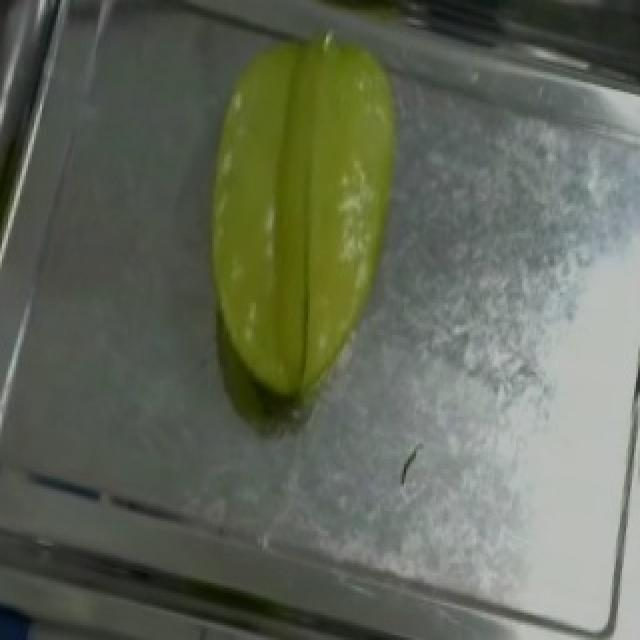fruit: (160, 0, 466, 419)
